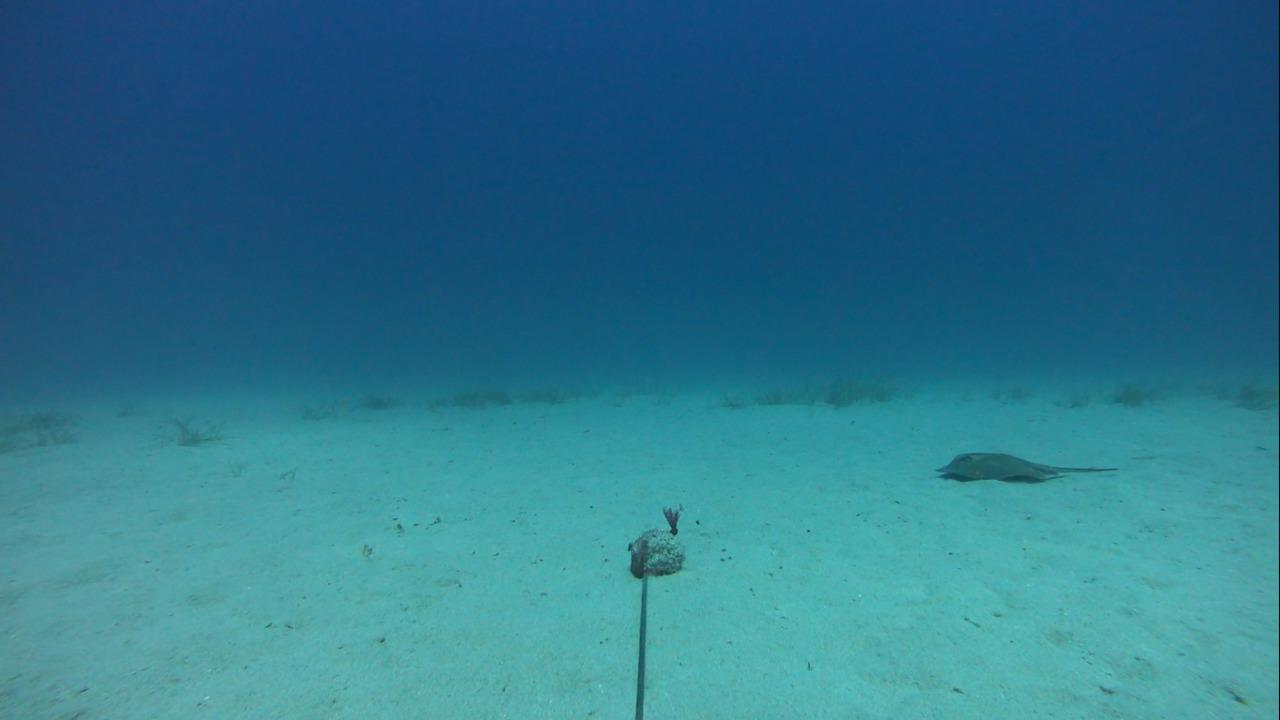myliobatis: (930, 441, 1123, 487)
